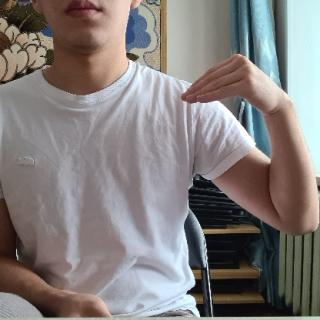HAA: (177, 48, 298, 126)
